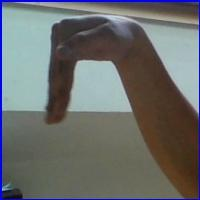del: (44, 12, 152, 133)
